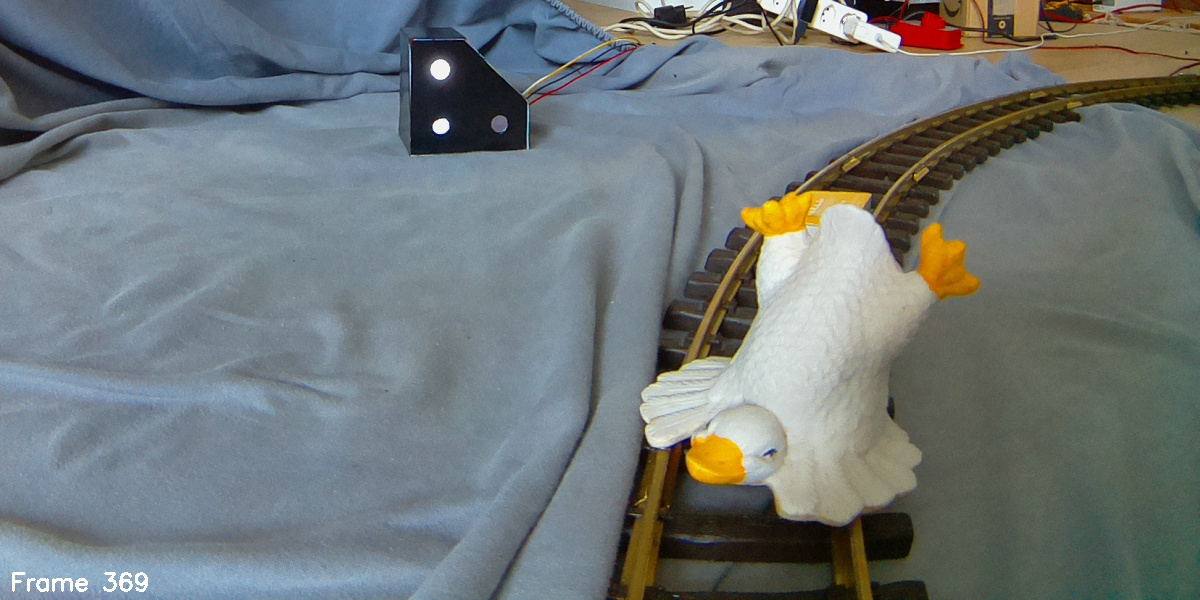Ente: (639, 190, 980, 526)
Fahrt: (397, 24, 532, 154)
